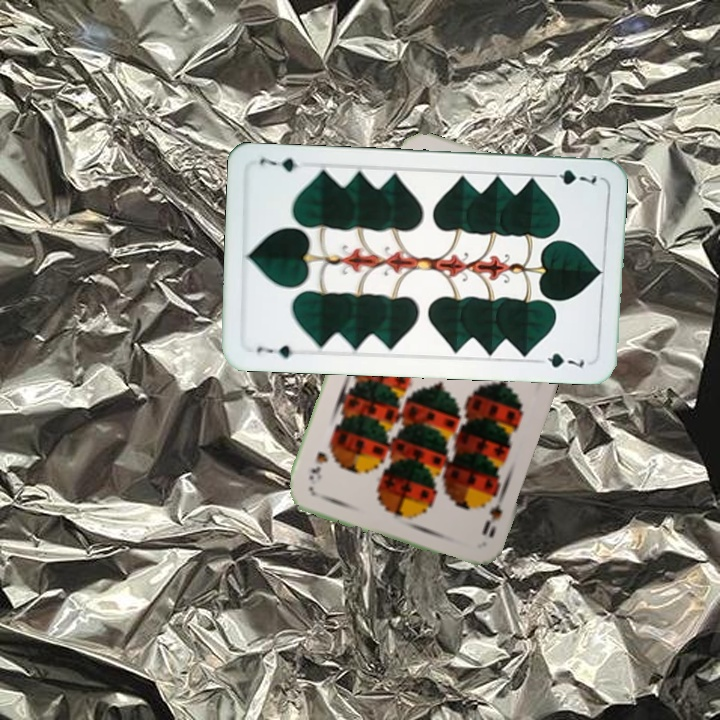G7: (542, 165, 599, 187), (253, 341, 296, 361)
S9: (478, 486, 508, 540)
